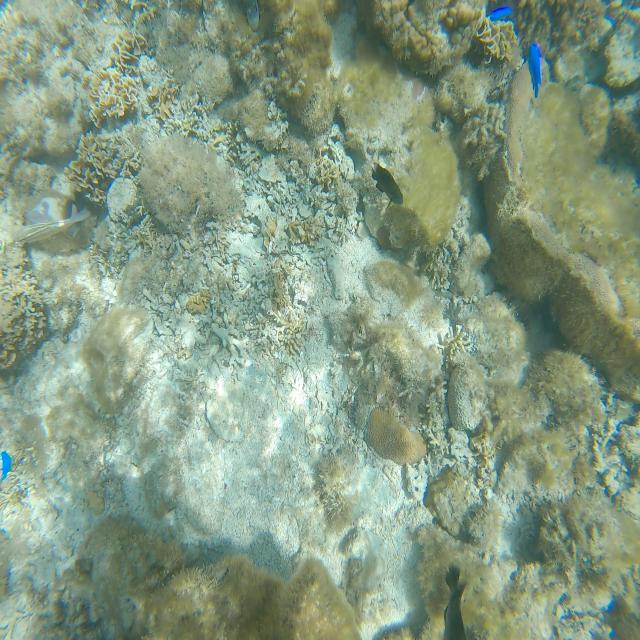kurohagi: (372, 163, 403, 204)
rurisuzumedai: (527, 43, 541, 98), (489, 7, 513, 21), (0, 451, 11, 481)
